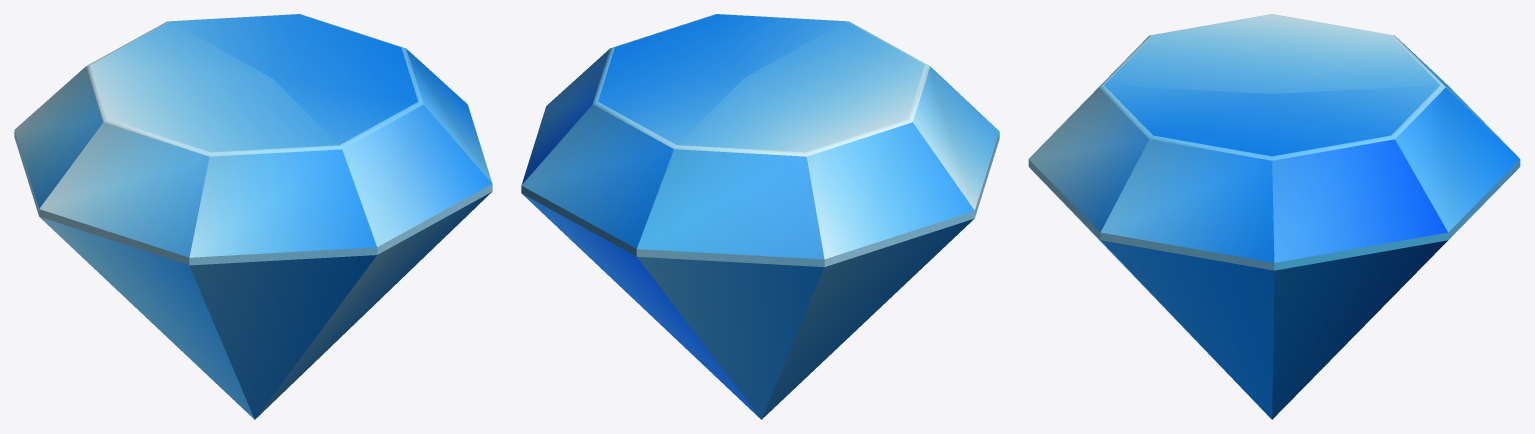
Rendered from IconModel_Diamond.fbx.
3 renders of one model, left to right at view 1: azimuth 30°, elevation 25°; view 2: azimuth 150°, elevation 25°; view 3: azimuth 270°, elevation 25°, orthographic.
Visible parts, largest first — view 1: Icon_Diamond_GEO; view 2: Icon_Diamond_GEO; view 3: Icon_Diamond_GEO.
Part boxes in pixels (x1,y1,x2,y2): Icon_Diamond_GEO: (14,14,492,419); Icon_Diamond_GEO: (521,14,999,419); Icon_Diamond_GEO: (1028,14,1520,419).
Bounding box in the file's own units: 35.18 × 26.41 × 35.18.
